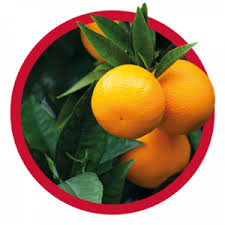orange: (94, 62, 163, 138), (150, 57, 216, 132), (118, 127, 191, 187)
